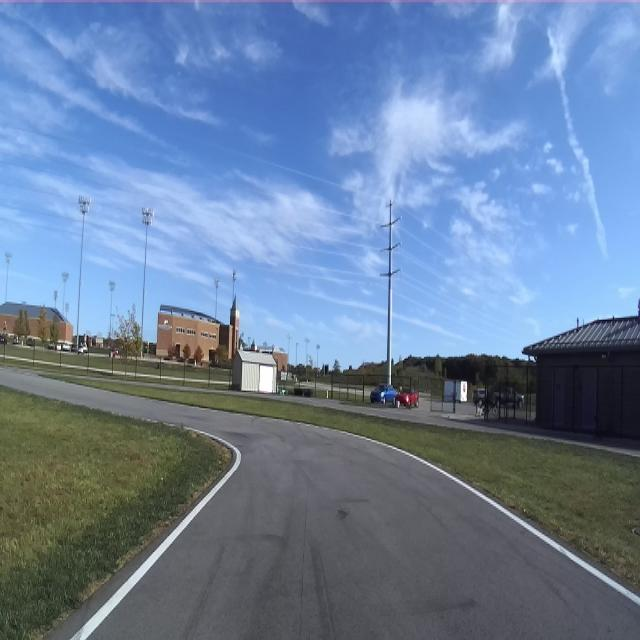white-line: (276, 417, 640, 605), (70, 428, 241, 639)
